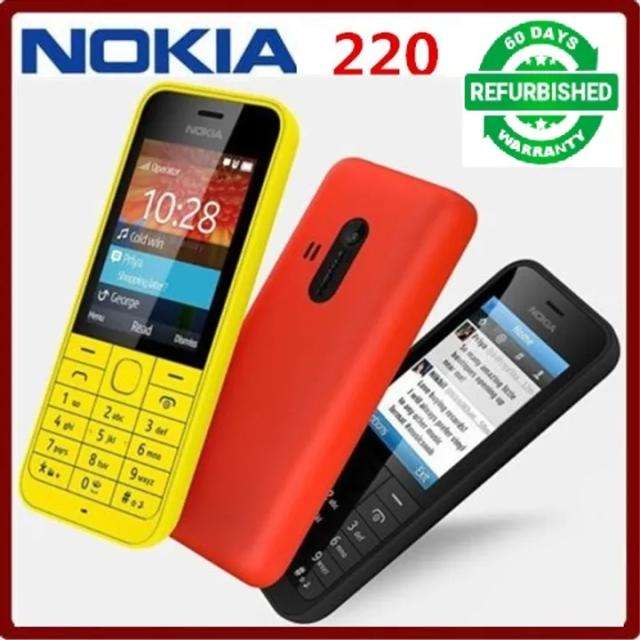mobile phone: (168, 153, 478, 590), (258, 257, 620, 624), (18, 80, 300, 550)
